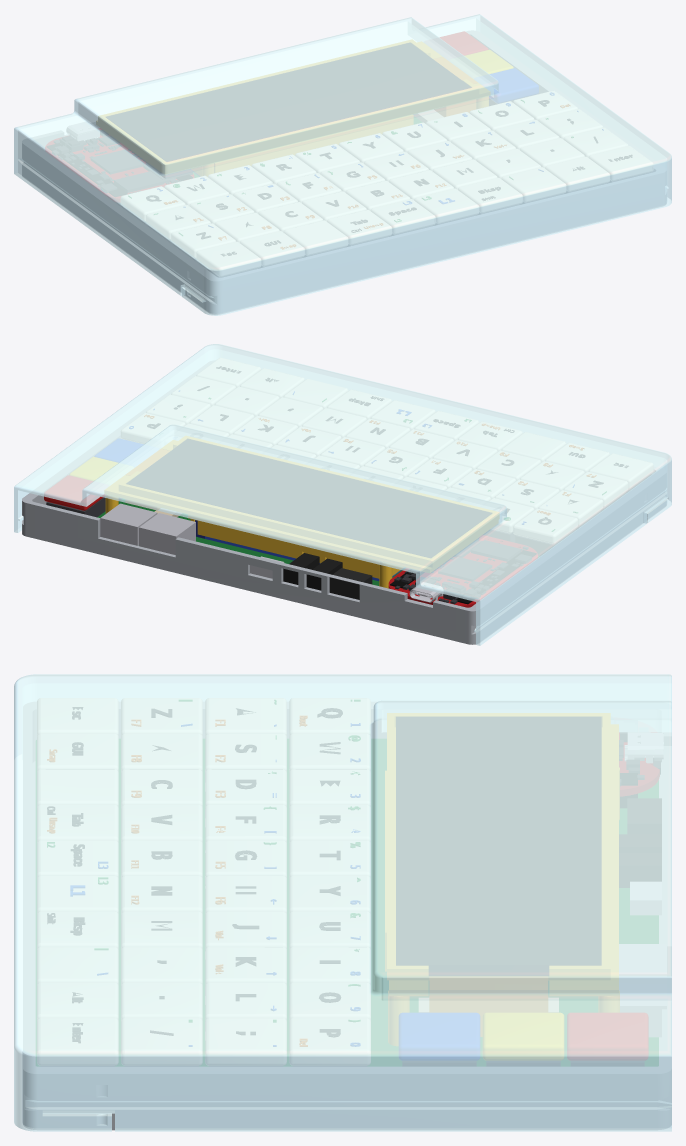
The model's file is cover_chrome.glb.
The picture shows the model from 3 angles, top to bottom: view 1: azimuth 30°, elevation 25°; view 2: azimuth 150°, elevation 25°; view 3: azimuth 270°, elevation 25°; orthographic projection. The views are drawn at different scales.
Parts seen in each view (by area): view 1: Lid, Internals, Tray; view 2: Lid, Internals, Tray; view 3: Lid, Internals, Tray.
Part boxes in pixels (box(x1,y1,x2,y2)): Lid: box(14, 14, 671, 315); Internals: box(45, 32, 652, 276); Tray: box(22, 31, 665, 314); Lid: box(14, 344, 671, 645); Internals: box(44, 358, 652, 607); Tray: box(22, 361, 665, 644); Lid: box(14, 674, 671, 1131); Internals: box(36, 698, 666, 1065); Tray: box(23, 702, 671, 1130).
Size of the model in its own units: 0.1818 by 0.0232 by 0.133.
